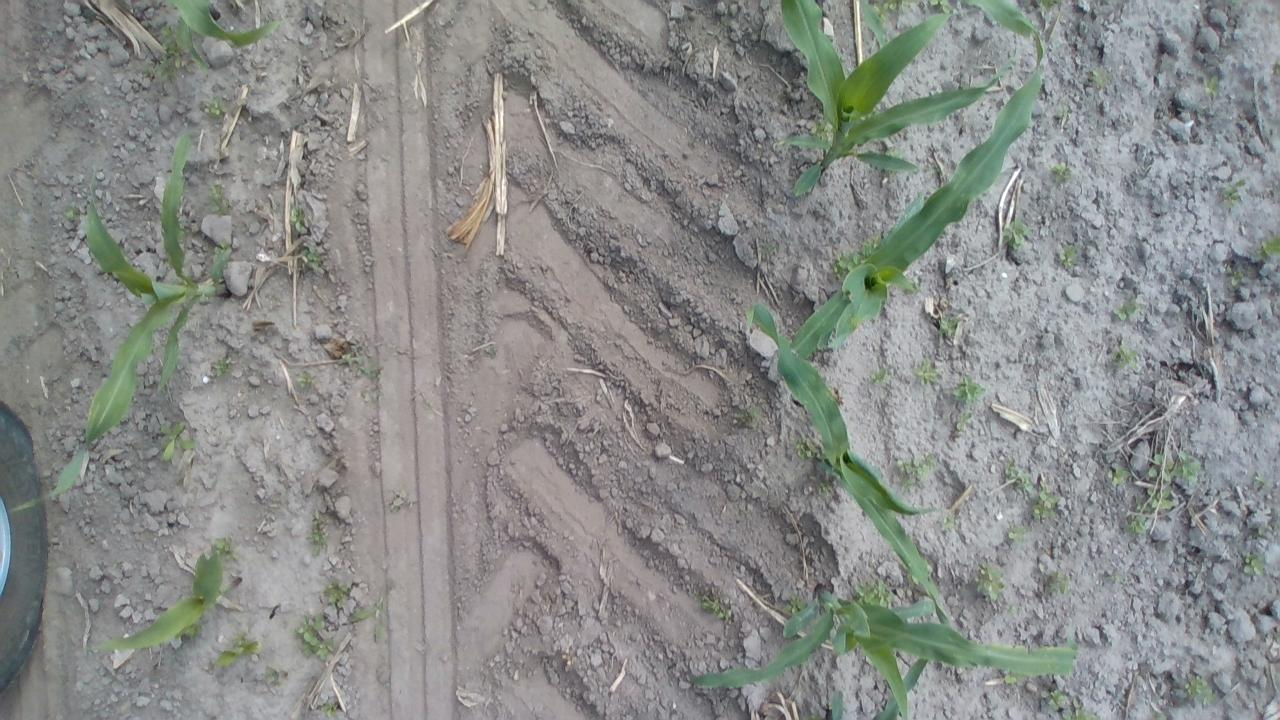Maize: (0, 123, 236, 527), (735, 270, 963, 631), (822, 54, 1056, 350), (678, 571, 1093, 715), (771, 0, 1024, 205), (92, 549, 229, 664), (167, 0, 291, 75), (950, 0, 1044, 45)
Weeds: (1144, 450, 1204, 512), (346, 595, 394, 642), (144, 30, 182, 84), (292, 618, 340, 660), (832, 232, 882, 272), (154, 424, 208, 461), (339, 340, 386, 380), (1040, 689, 1100, 720), (952, 375, 982, 431), (218, 633, 262, 670), (1024, 481, 1062, 522), (890, 456, 932, 492), (974, 560, 1006, 604), (852, 576, 894, 608), (701, 596, 740, 630), (1000, 214, 1036, 250), (1181, 670, 1218, 704), (1001, 461, 1036, 495), (867, 0, 912, 25), (205, 181, 238, 215), (1107, 338, 1139, 372), (1214, 175, 1246, 208), (1054, 240, 1082, 276), (300, 244, 330, 276), (1086, 64, 1116, 95), (208, 352, 240, 381), (1122, 507, 1150, 540), (1106, 461, 1136, 490), (304, 518, 328, 554), (1238, 548, 1266, 578), (1112, 296, 1140, 324), (322, 580, 348, 610), (386, 490, 418, 514), (208, 534, 235, 562), (1044, 569, 1072, 596), (915, 362, 942, 389), (792, 438, 820, 464), (932, 312, 958, 340), (994, 664, 1024, 688), (288, 211, 312, 237), (208, 97, 230, 124), (259, 668, 291, 686), (290, 371, 313, 396), (1052, 159, 1074, 184), (1005, 523, 1028, 546), (61, 197, 80, 224), (359, 391, 383, 412), (1259, 235, 1280, 259), (868, 369, 891, 390), (316, 696, 341, 715), (942, 514, 965, 534), (786, 595, 810, 614), (738, 405, 766, 421), (1227, 266, 1244, 290), (1200, 74, 1220, 94), (815, 121, 836, 139), (814, 479, 832, 500), (1056, 106, 1068, 120)
